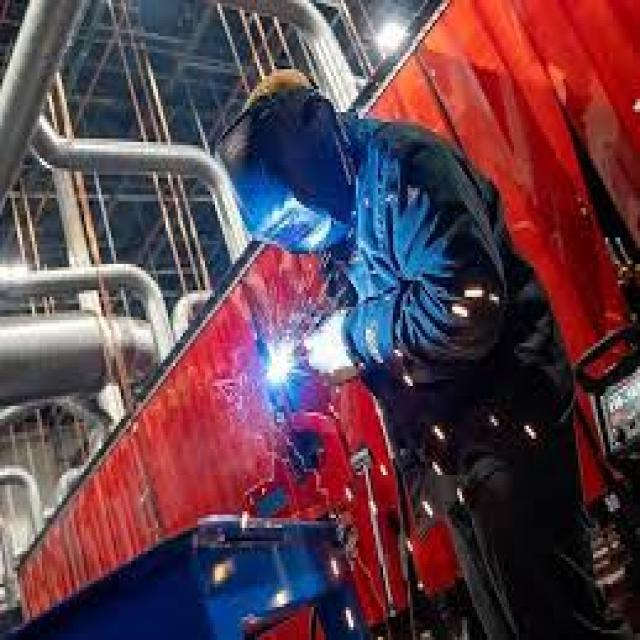welding: (264, 348, 295, 382)
